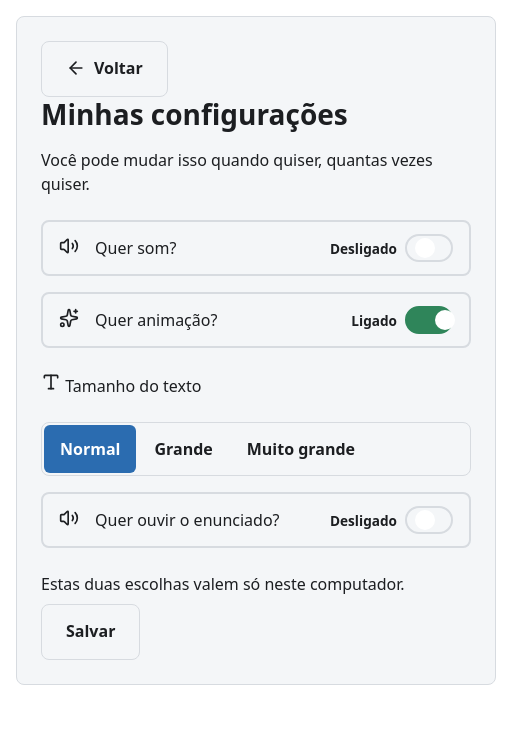
Scenario: StudentSensorySettings (3.9) › applies the saved preferences to the live sensory theme immediately, no reload required
Click the switch named "quer som?" in the row of "Quer som?": (429, 248) [405,234,453,262]
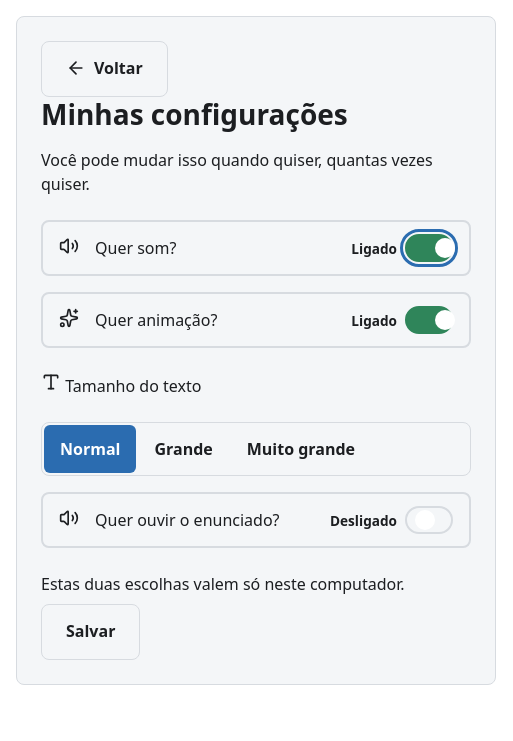
Click the switch named "quer animação?" in the row of "Quer animação?": (429, 320) [405,306,453,334]
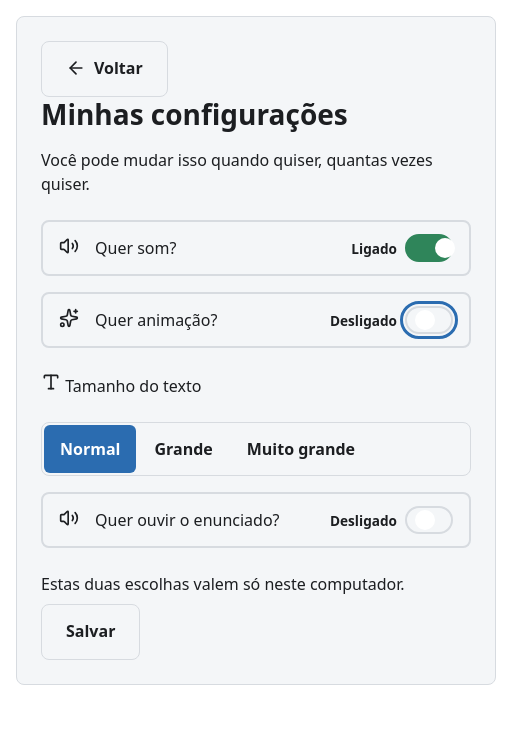
Click the button "Salvar": (91, 632) [41,604,140,660]
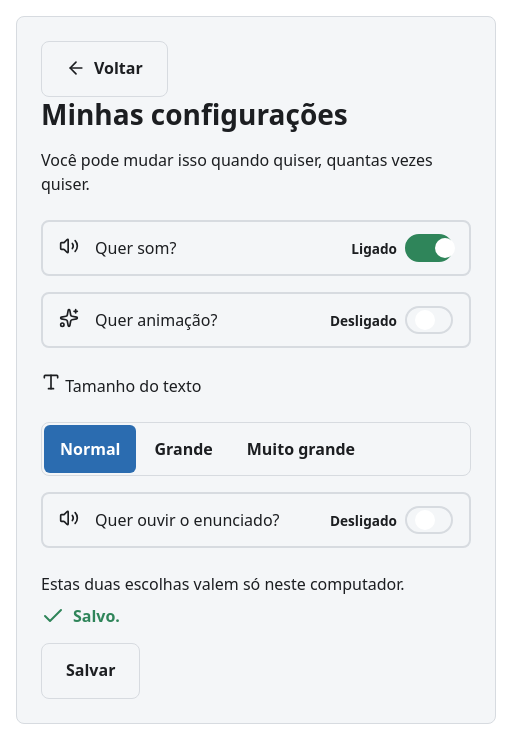
Expected: the text "Salvo." is shown, [73,604,120,628]
